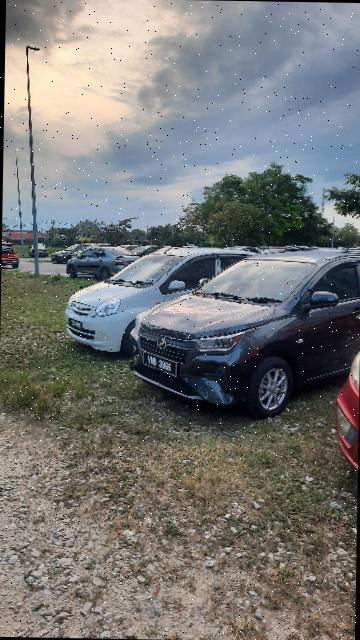License_Plate: (140, 349, 180, 381), (68, 318, 84, 332)
car: (130, 246, 360, 424), (62, 243, 286, 358)
